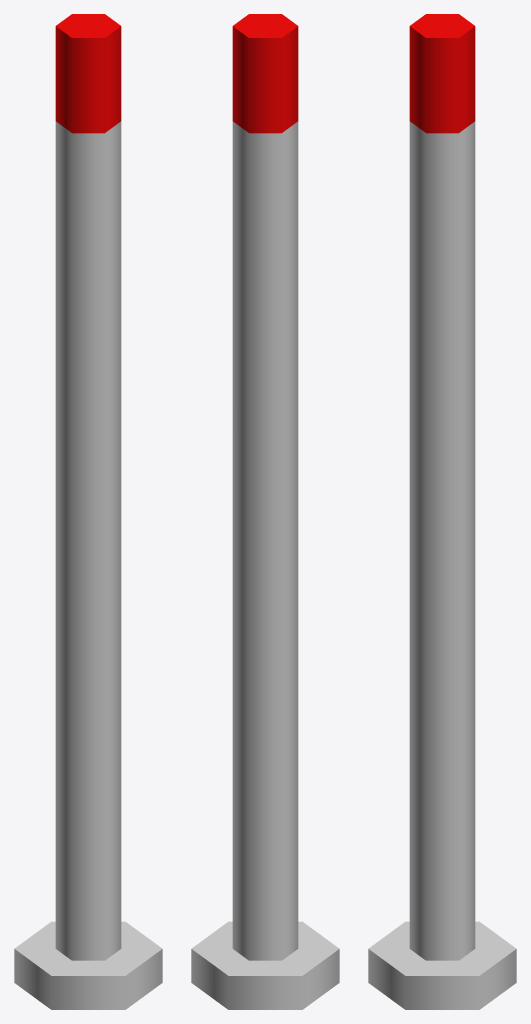
The model's file is Sign8.fbx.
3 views of the same model, side by side, from view 1: azimuth 30°, elevation 25°; view 2: azimuth 150°, elevation 25°; view 3: azimuth 270°, elevation 25° (orthographic).
Parts seen in each view (by area): view 1: Cube.005; view 2: Cube.005; view 3: Cube.005.
Part boxes in pixels (x1=…): Cube.005: x1=14, y1=14, x2=162, y2=1009; Cube.005: x1=191, y1=14, x2=339, y2=1009; Cube.005: x1=368, y1=14, x2=516, y2=1009.
Size of the model in its own units: 3.57 by 29.34 by 4.12.
